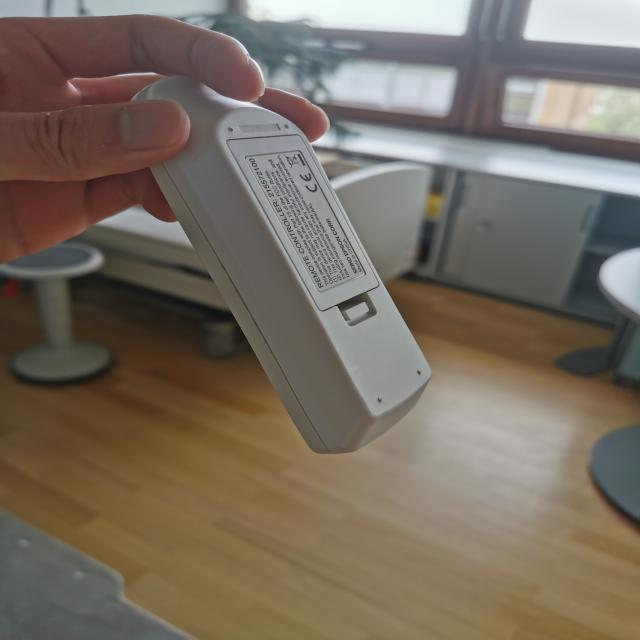remote: (135, 87, 431, 455)
